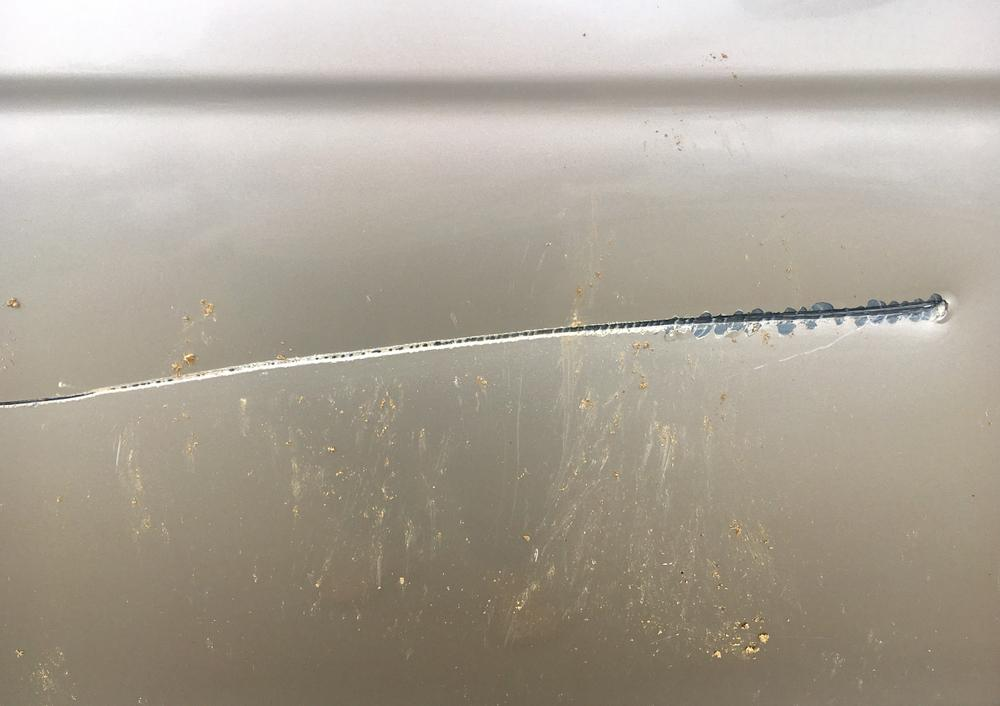scratch: (0, 290, 958, 412)
